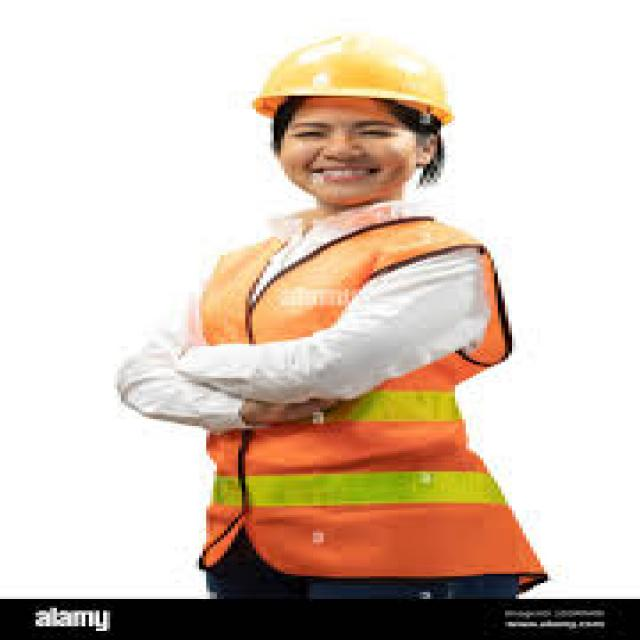Reflective-Jacket: (174, 210, 540, 586)
Safety-Helmet: (245, 28, 466, 126)
